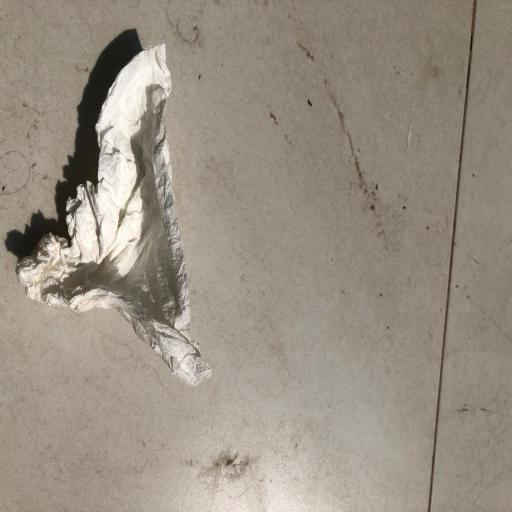waste: (13, 35, 224, 394)
